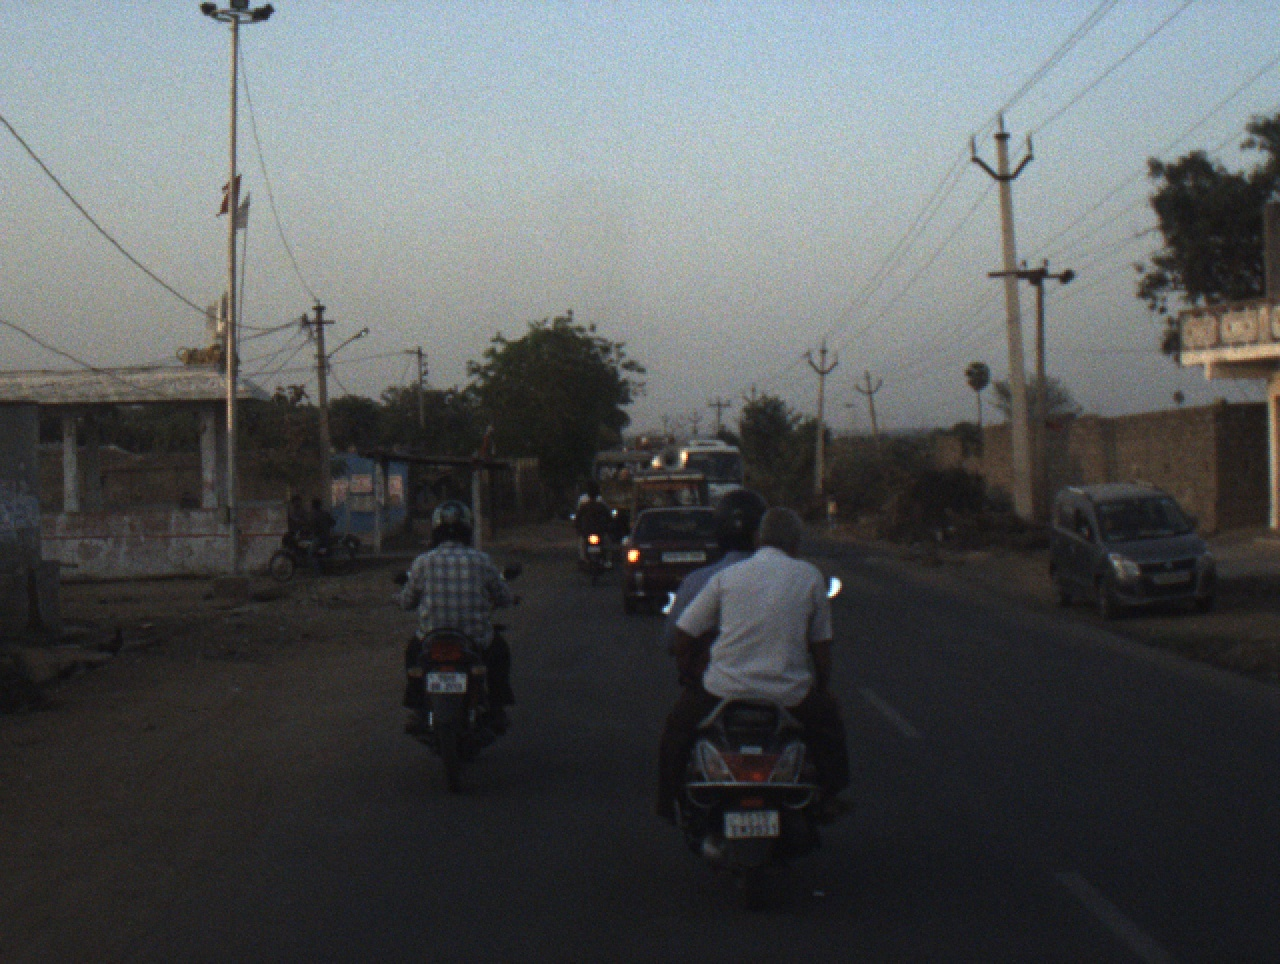bus: (670, 439, 743, 506)
car: (1047, 481, 1222, 618), (618, 506, 724, 616), (627, 449, 714, 533), (592, 445, 656, 515)
motorcycle: (651, 574, 845, 907), (387, 557, 525, 794), (268, 527, 359, 583), (568, 508, 624, 589)
person: (286, 495, 308, 538), (822, 486, 840, 536)
rider: (660, 503, 863, 828), (390, 498, 517, 740), (662, 487, 773, 693), (572, 483, 617, 572), (301, 494, 336, 578)
truck: (576, 477, 609, 513), (635, 434, 676, 456)
